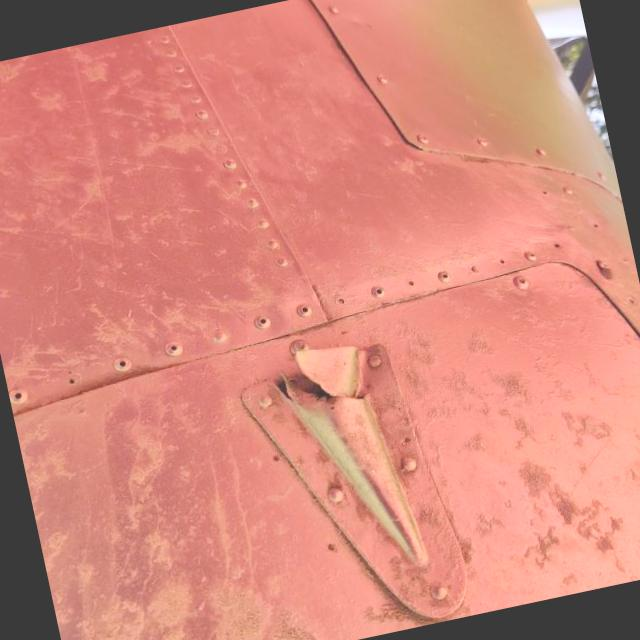crack: (240, 307, 392, 439)
